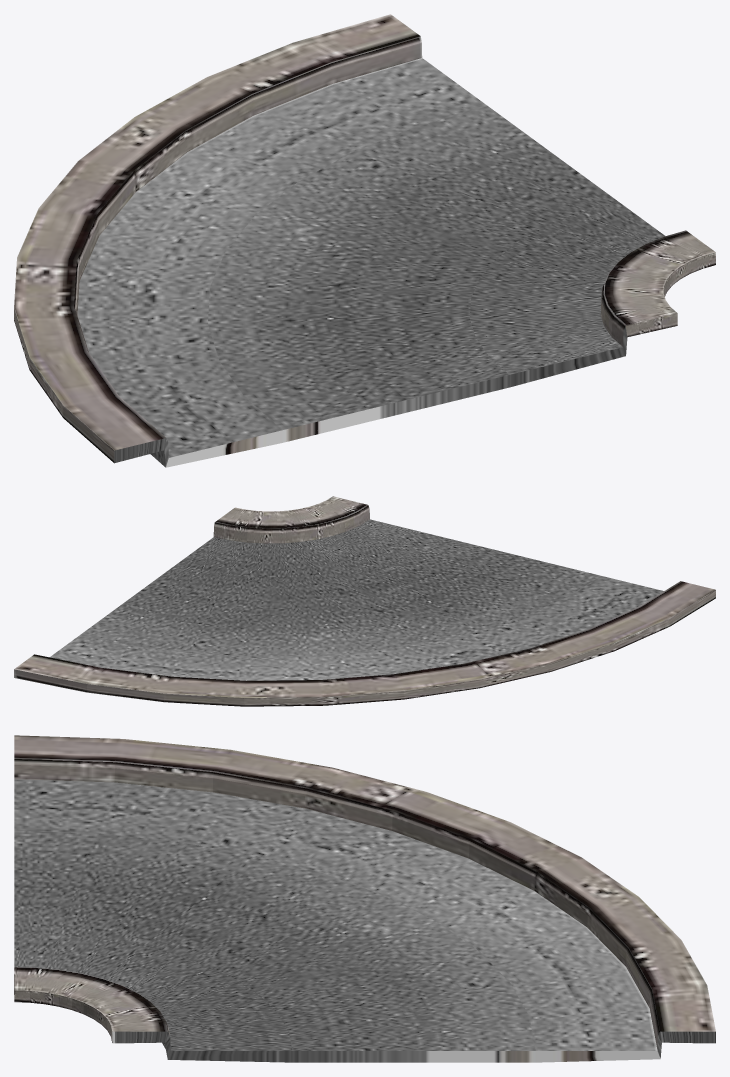
File: callecurva.fbx
3 views of the same model, one above another, from view 1: azimuth 30°, elevation 25°; view 2: azimuth 150°, elevation 25°; view 3: azimuth 270°, elevation 25° (orthographic). The views are drawn at different scales.
Parts seen in each view (by area): view 1: 4in 2.011; view 2: 4in 2.011; view 3: 4in 2.011.
Boxes of the visible parts, box(x1,y1,x2,y2) form: 4in 2.011: box(14, 14, 715, 467); 4in 2.011: box(14, 496, 715, 706); 4in 2.011: box(14, 735, 715, 1062).
Size of the model in its own units: 591 by 28.75 by 591.
